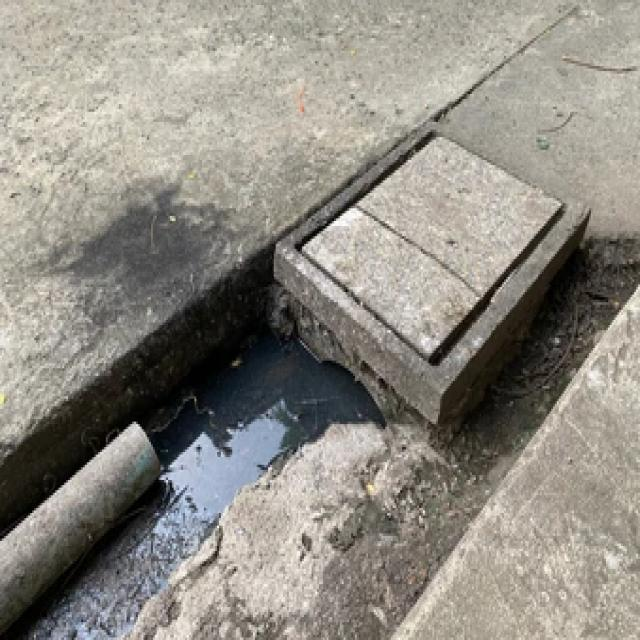Breeding Place: (30, 319, 386, 630)
